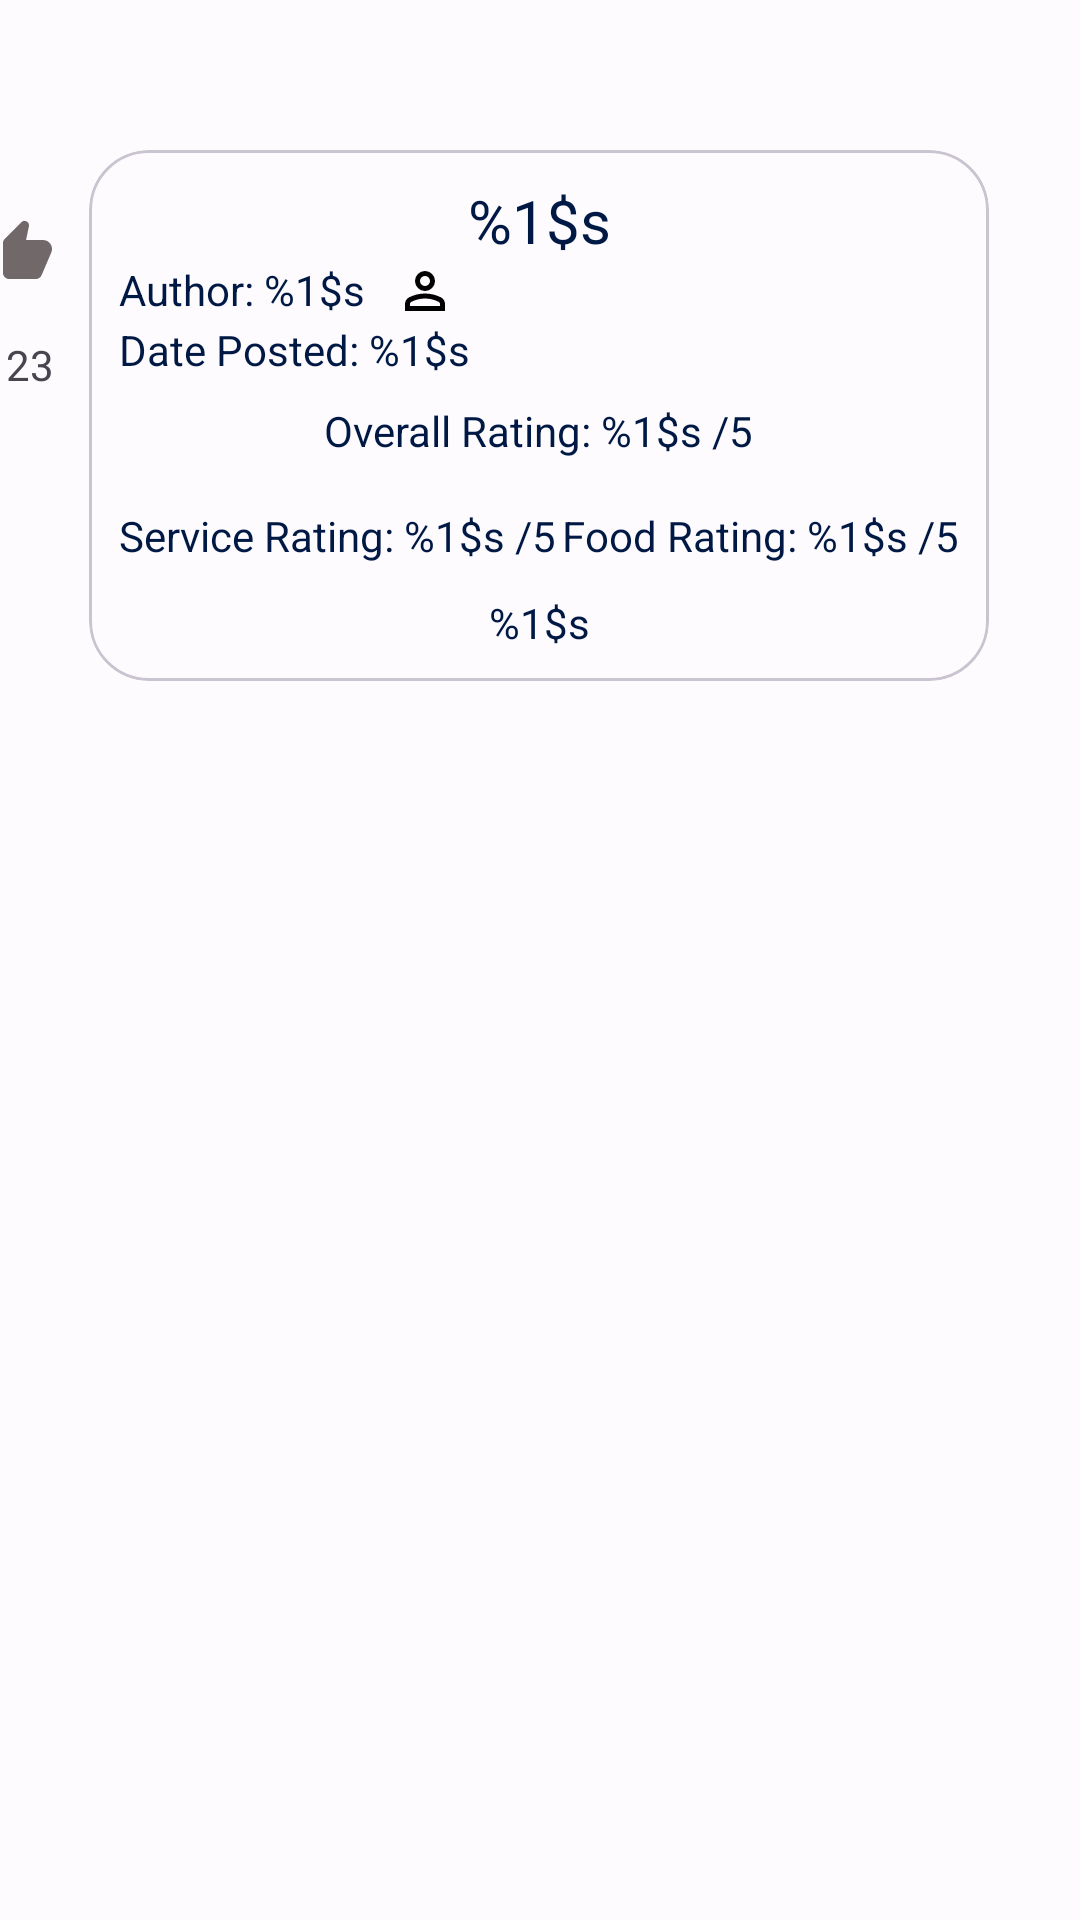

Icons on this 1080px×1920px Android screen, each with its box as [x1=x1, y1=y1, x2=x2, y2=y2]:
Profile Picture: [x1=405, y1=271, x2=445, y2=311]
